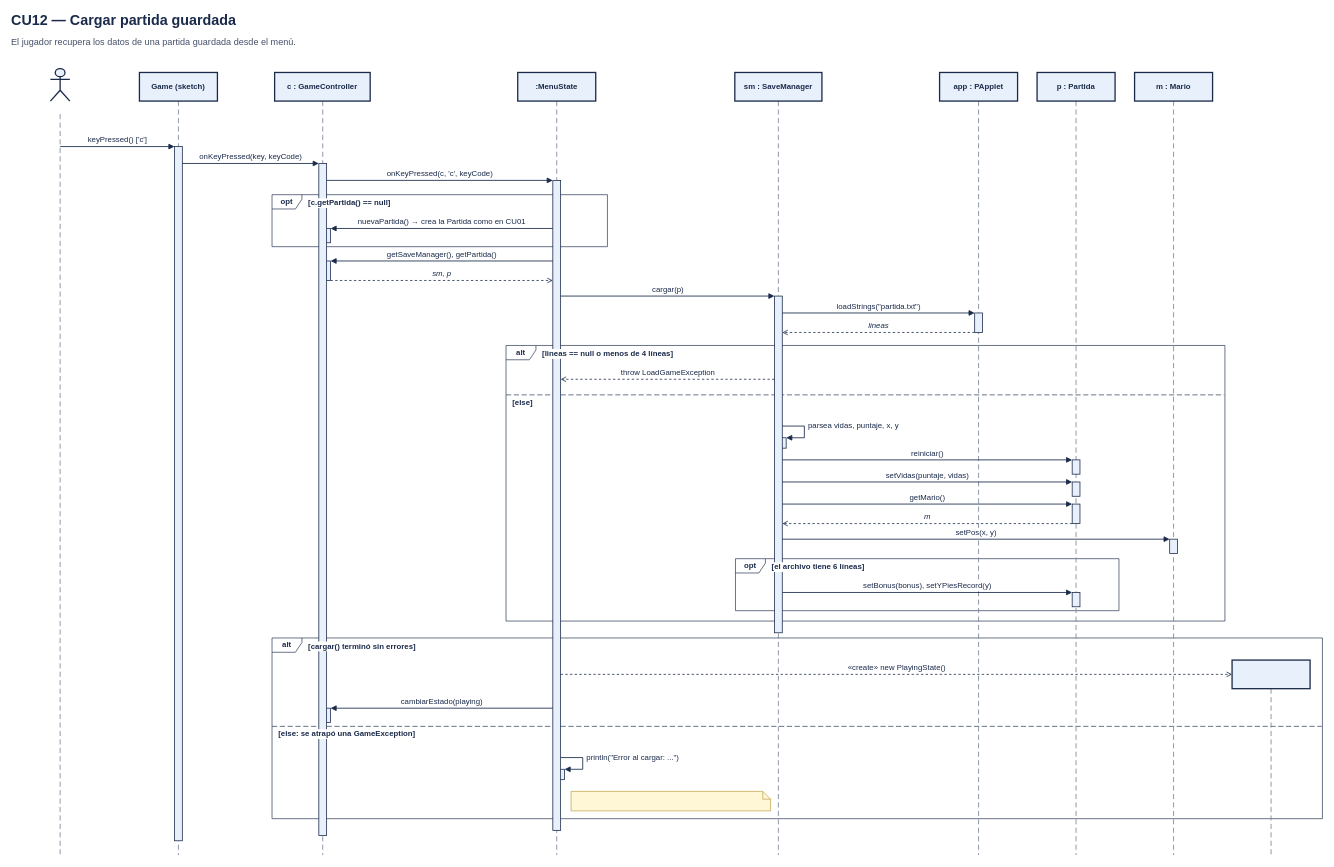
This 1334x867 diagram has some shape labels left out. Here are the shapes that lost their labels. From the top down, the centre of each, then its label:
At (59,84): "Jugador".
At (1270,674): ":PlayingState".
At (670,801): "Se queda en el MENU, sin aviso en pantalla".
